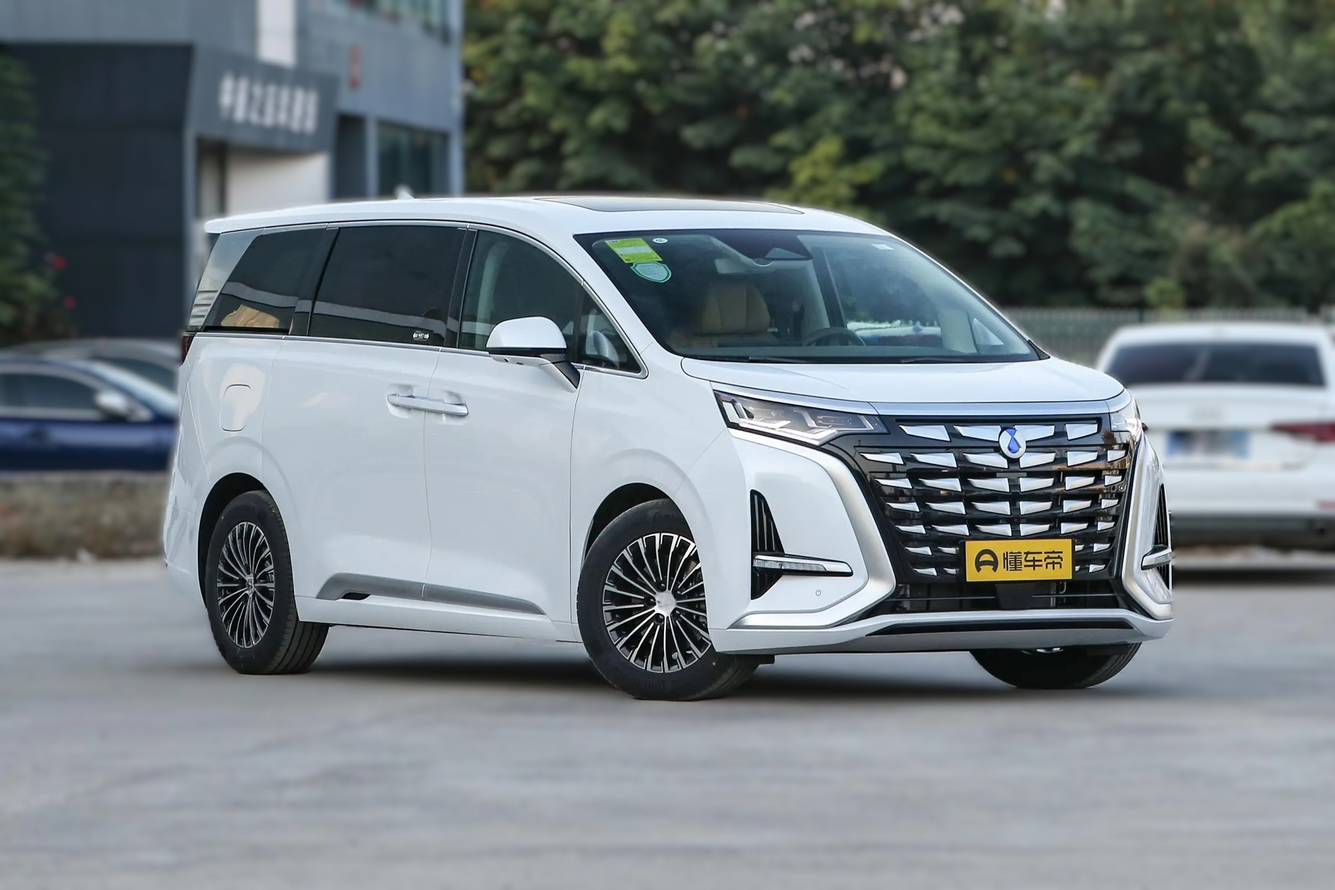DENZA: (1000, 429, 1026, 457)
